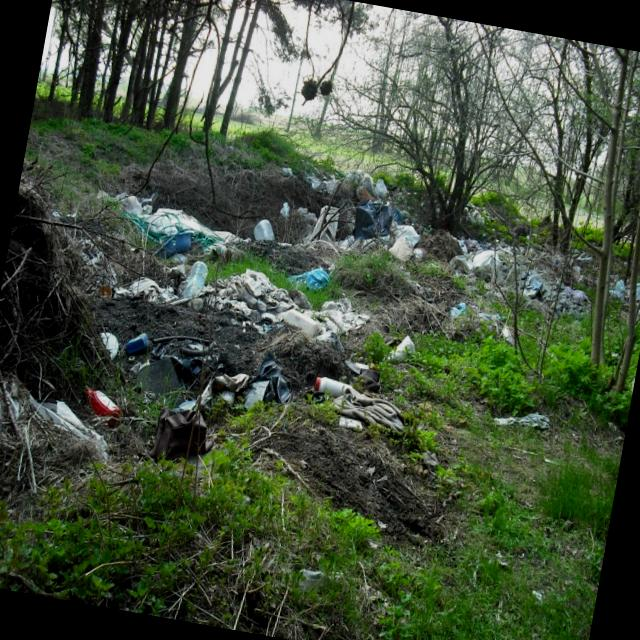garbage: (27, 115, 640, 520)
